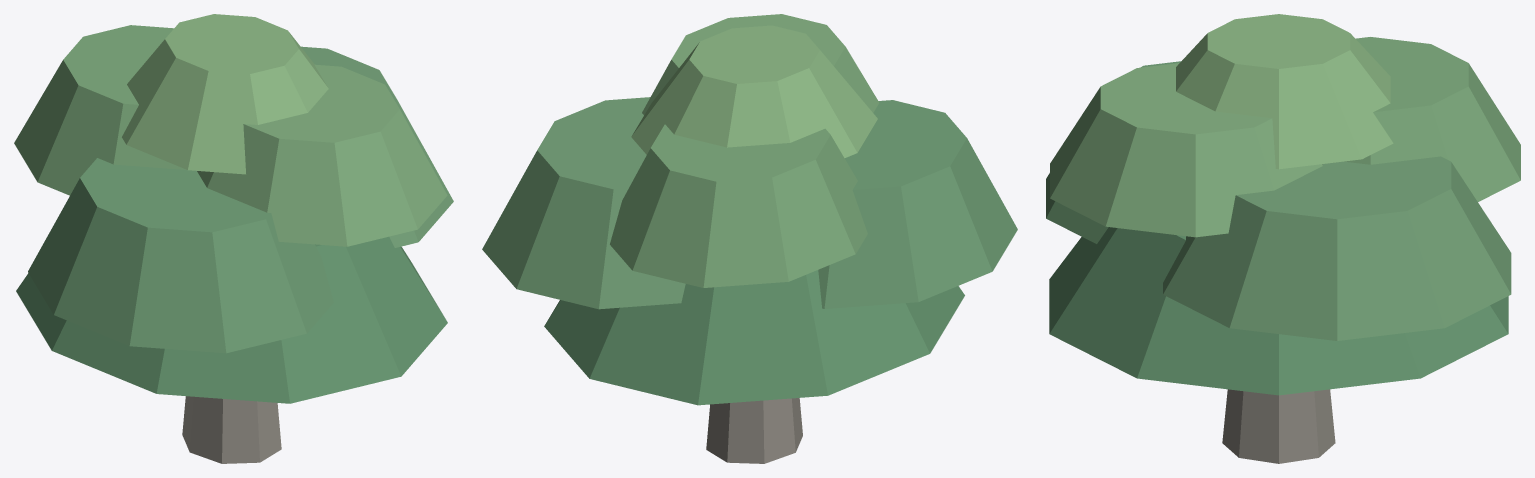
File: flora_48_camellia_sinensis_ancient_shan_tuyet_tea_tree_cau_dat_1927.glb
The picture shows the model from 3 angles, left to right: view 1: azimuth 30°, elevation 25°; view 2: azimuth 150°, elevation 25°; view 3: azimuth 270°, elevation 25°; orthographic projection. The views are drawn at different scales.
Visible parts, largest first — view 1: flora_48; view 2: flora_48; view 3: flora_48.
Boxes of the visible parts, left/top/right/bottom form: flora_48: left=14, top=14, right=453, bottom=463; flora_48: left=482, top=14, right=1017, bottom=463; flora_48: left=1046, top=14, right=1520, bottom=463.
Size of the model in its own units: 3.2 by 2.8 by 3.
